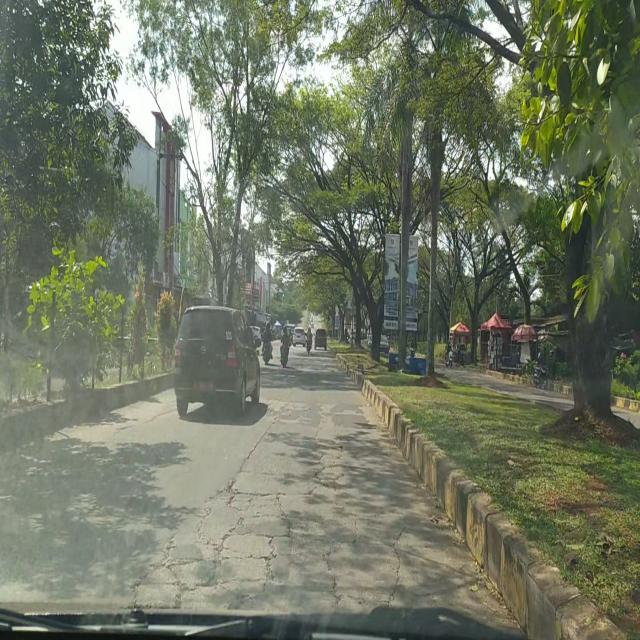Drain Hole: (128, 493, 396, 609)
